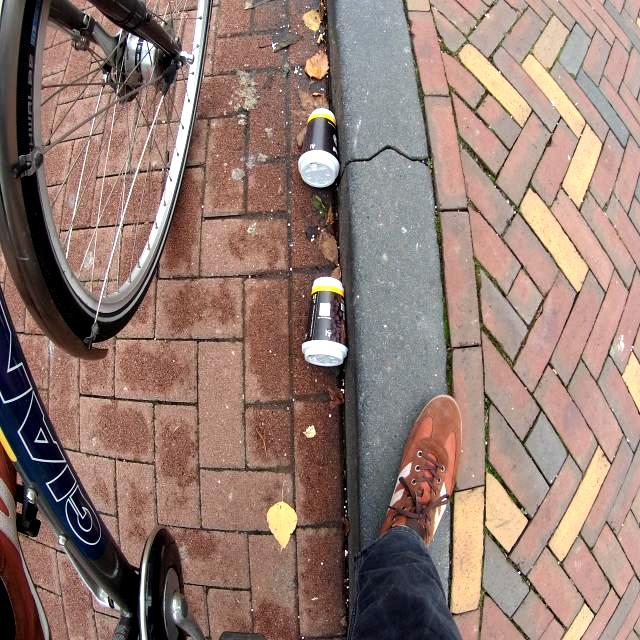Coffee Cup: (301, 276, 349, 368), (296, 106, 340, 190)
